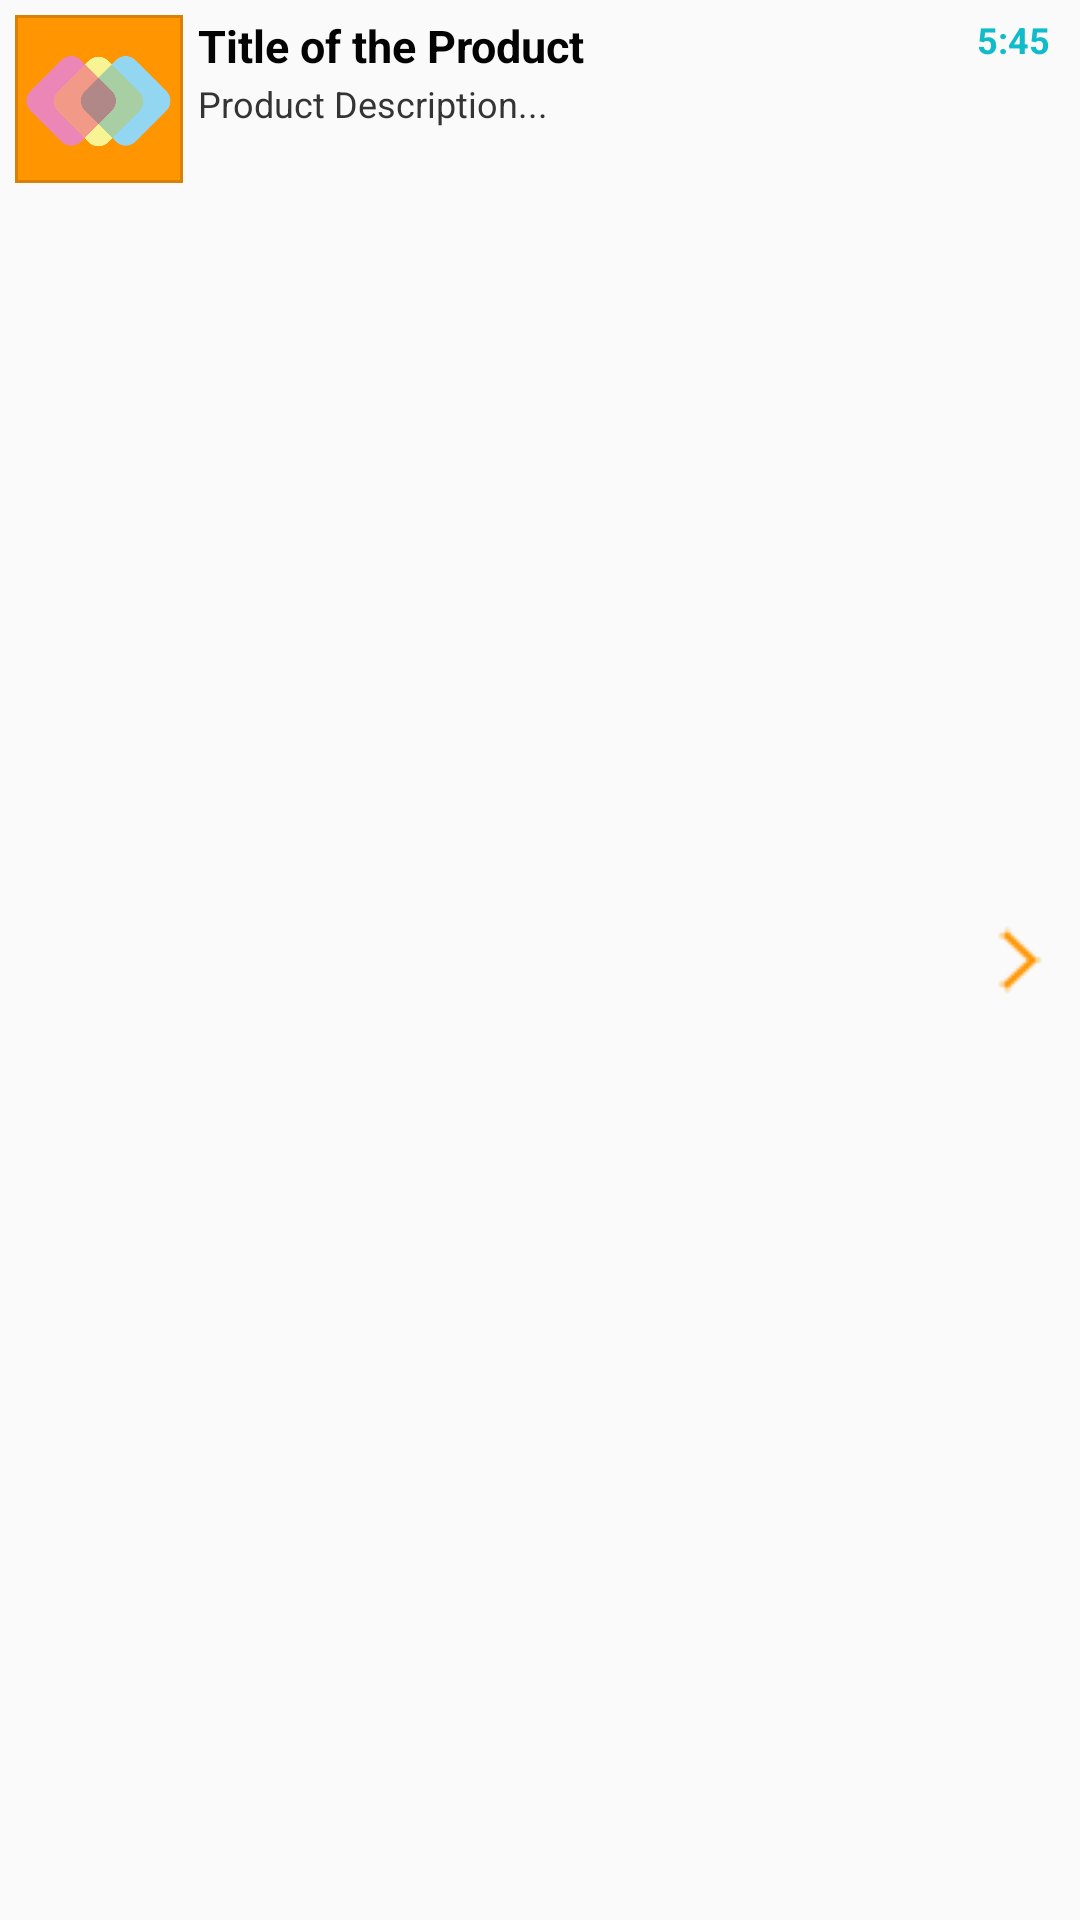

Icons on this 1080×1920 Android screen, each with its box as (x1, y1, x2, y2):
arrow: (999, 927, 1041, 993)
